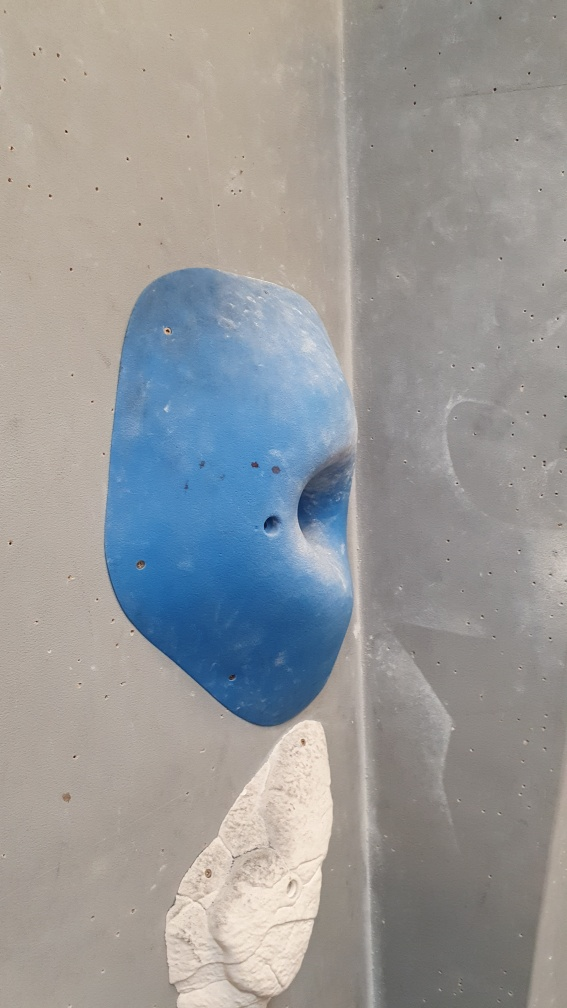Pocket: (101, 264, 357, 734)
